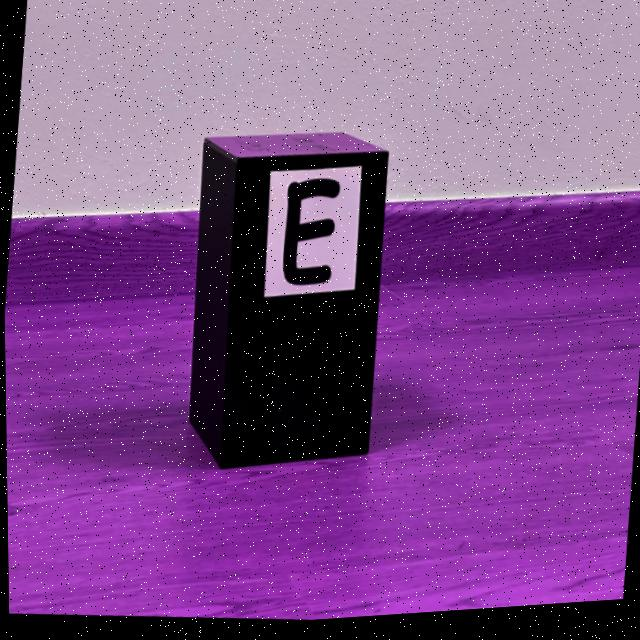E: (281, 183, 338, 289)
